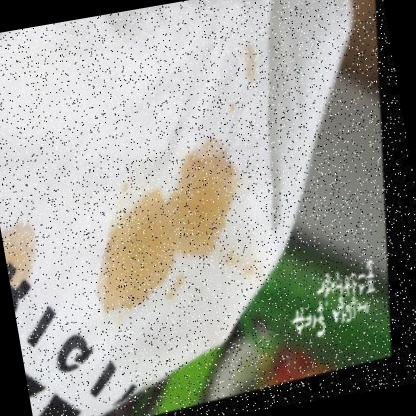coffee: (161, 149, 239, 257), (107, 206, 175, 288)
